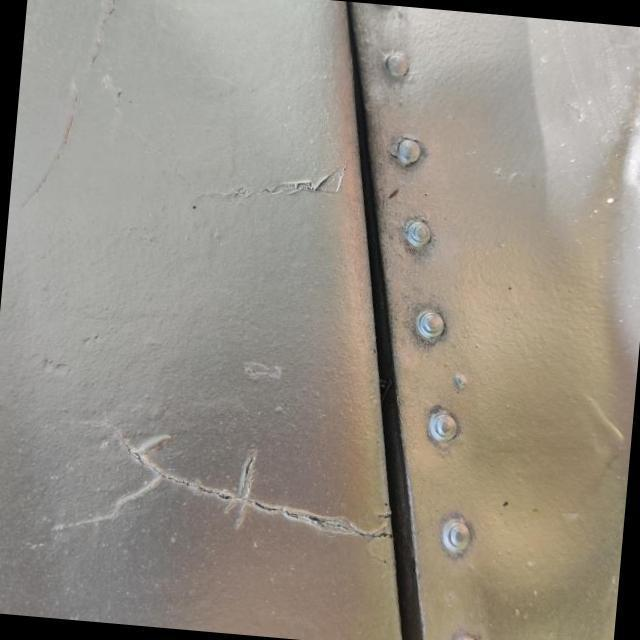Rupture: (64, 407, 413, 592)
